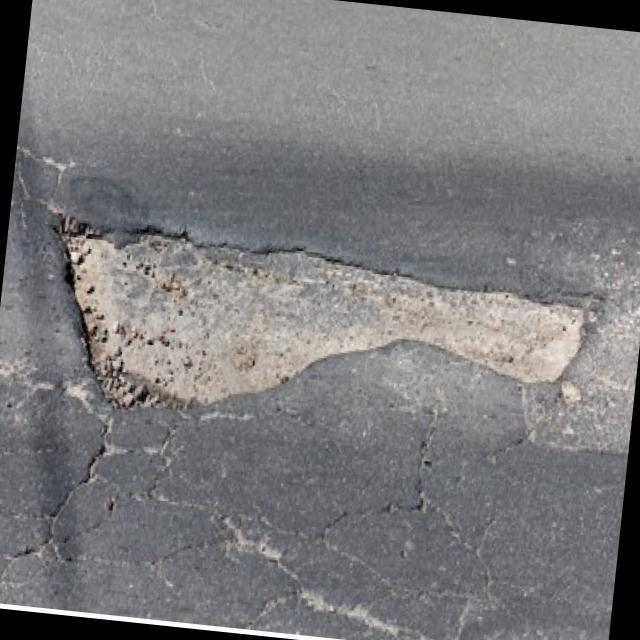Pothole: (36, 208, 596, 457)
